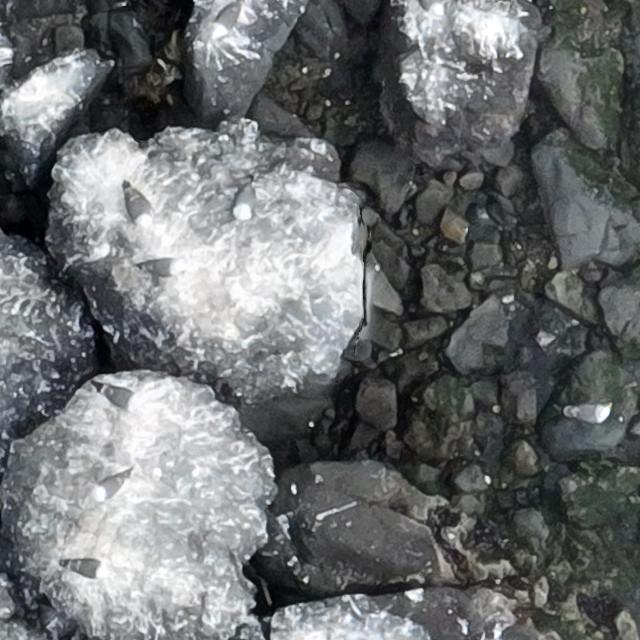umineko: (126, 184, 156, 228), (95, 384, 142, 412), (90, 472, 130, 502), (212, 3, 243, 41), (68, 559, 110, 580), (567, 404, 609, 423), (139, 258, 181, 277), (235, 185, 252, 217)
